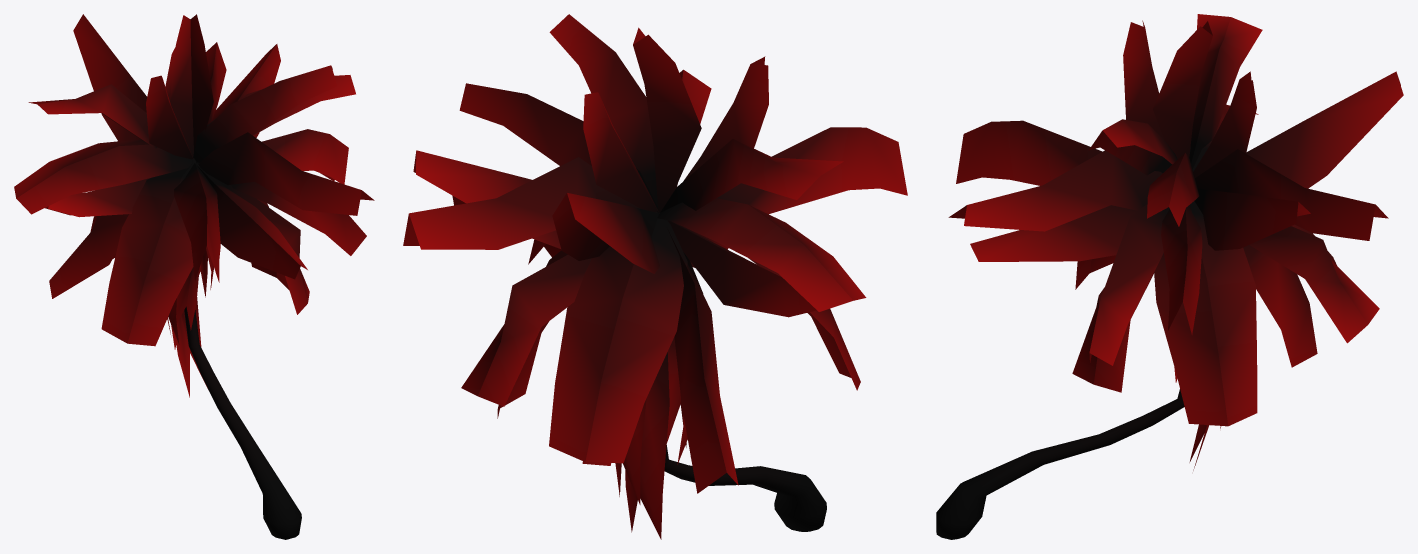
Rendered from TAI_Palm_Tree_02A.fbx.
3 renders of one model, left to right at view 1: azimuth 30°, elevation 25°; view 2: azimuth 150°, elevation 25°; view 3: azimuth 270°, elevation 25°, orthographic. The views are drawn at different scales.
Visible parts, largest first — view 1: TAI_Palm_Tree_02A_LOD1; view 2: TAI_Palm_Tree_02A_LOD1; view 3: TAI_Palm_Tree_02A_LOD1.
Boxes of the visible parts, <box> form: TAI_Palm_Tree_02A_LOD1: <box>14,14,374,539</box>; TAI_Palm_Tree_02A_LOD1: <box>403,14,907,539</box>; TAI_Palm_Tree_02A_LOD1: <box>936,14,1403,539</box>.
Size of the model in its own units: 821 by 1111 by 899.
